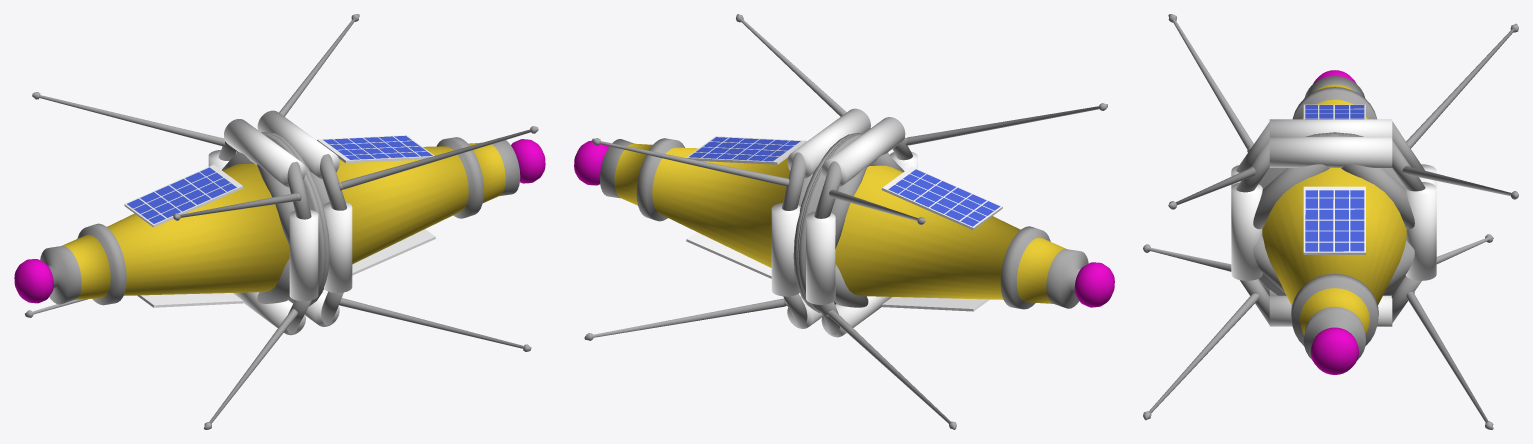
Rendered from Probe1.fbx.
3 renders of one model, left to right at view 1: azimuth 30°, elevation 25°; view 2: azimuth 150°, elevation 25°; view 3: azimuth 270°, elevation 25°, orthographic. The views are drawn at different scales.
Visible parts, largest first — view 1: Cylinder, Cylinder.001; view 2: Cylinder, Cylinder.001; view 3: Cylinder, Cylinder.001.
Boxes of the visible parts, x1,y1,x2,y2 form: Cylinder: (25, 14, 538, 429); Cylinder.001: (14, 139, 545, 303); Cylinder: (584, 14, 1107, 429); Cylinder.001: (574, 140, 1114, 307); Cylinder: (1143, 14, 1518, 429); Cylinder.001: (1310, 70, 1358, 374).
Bounding box in the file's own units: 2087 × 806 × 1205.
